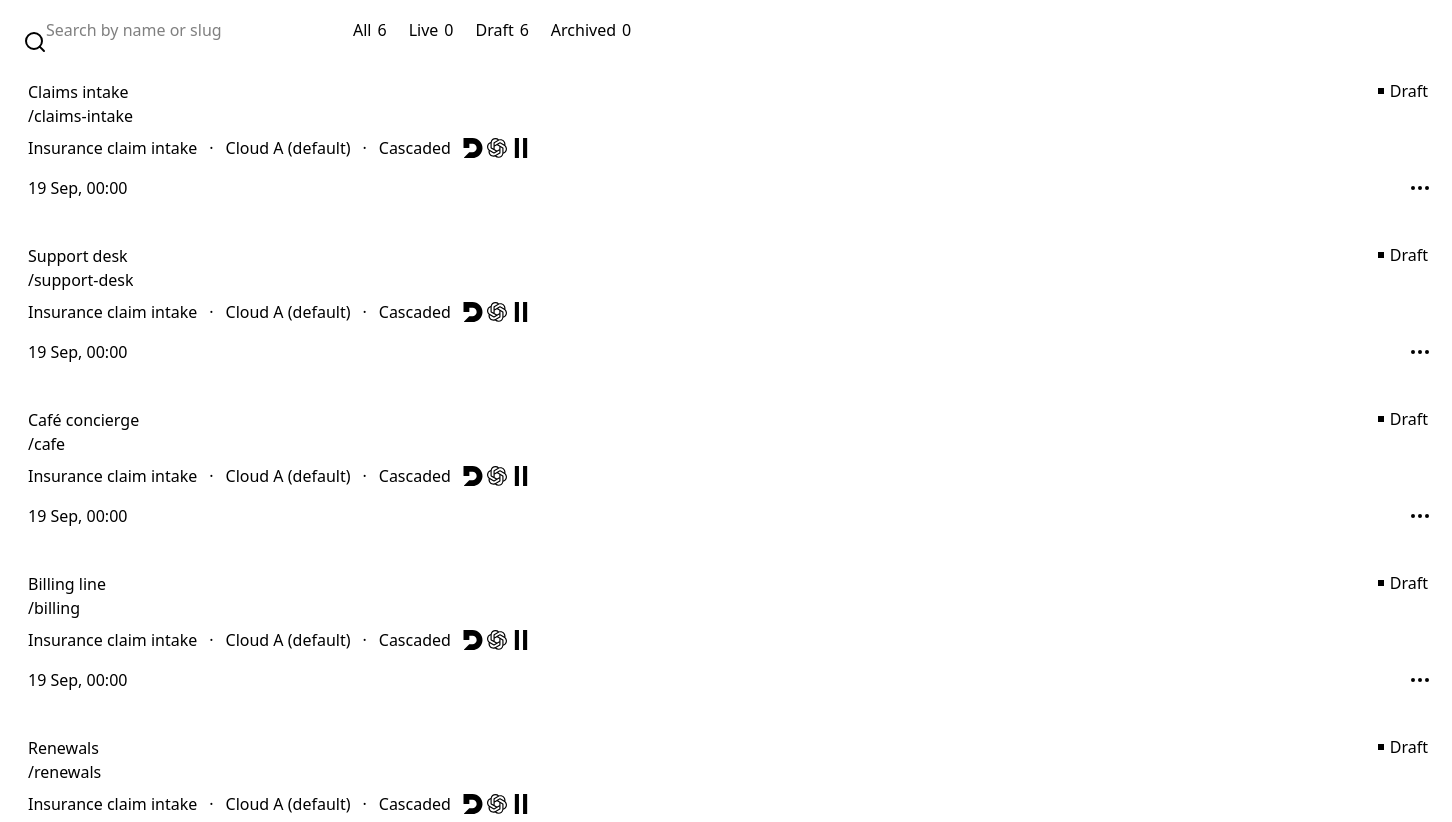
Test: AgentsTable › filters by search text across name and slug
Type "support" into the search field named "Search agents" at (172, 30), box [12, 12, 332, 48]
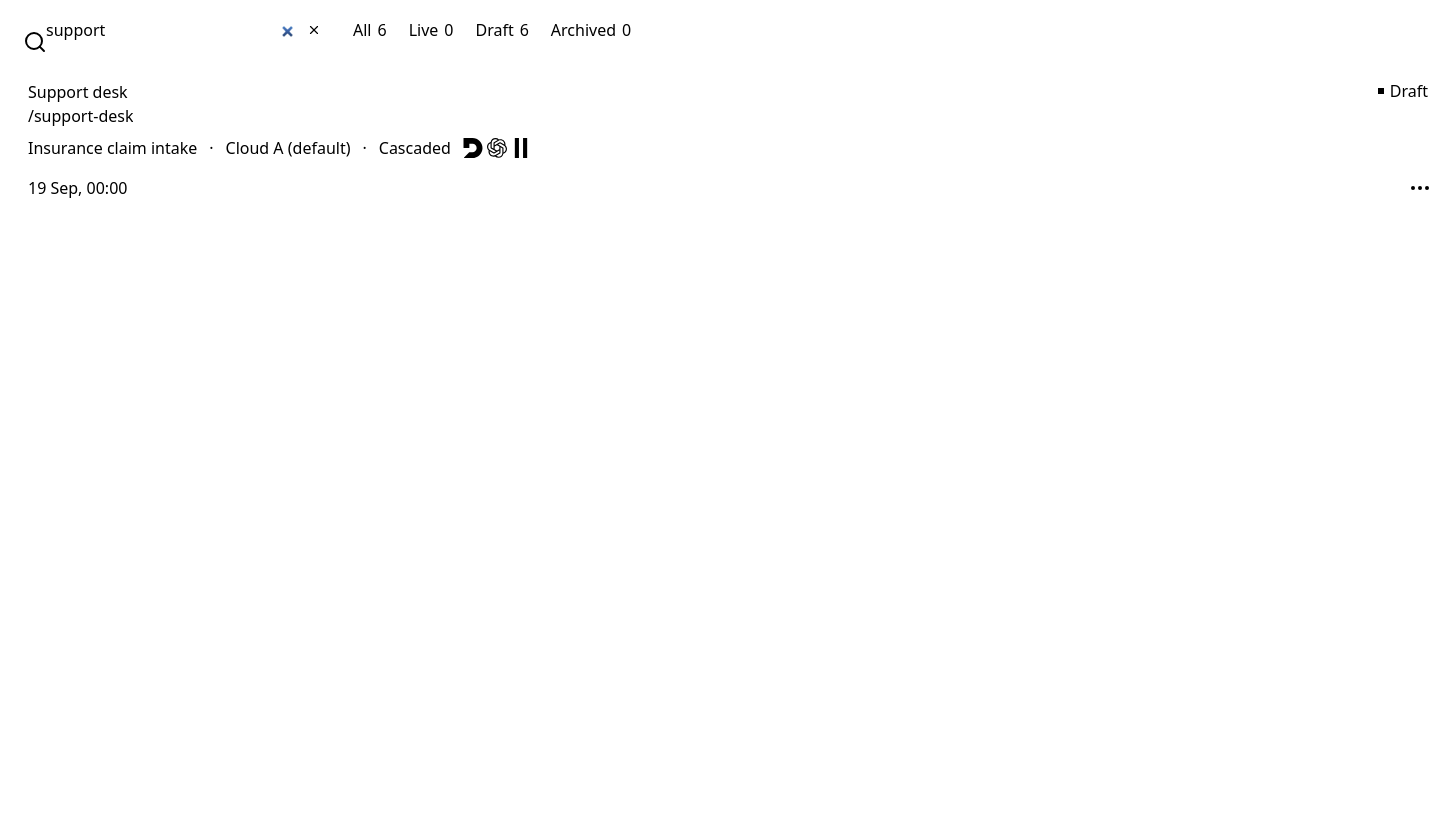
Check: the text "Claims intake" is gone
